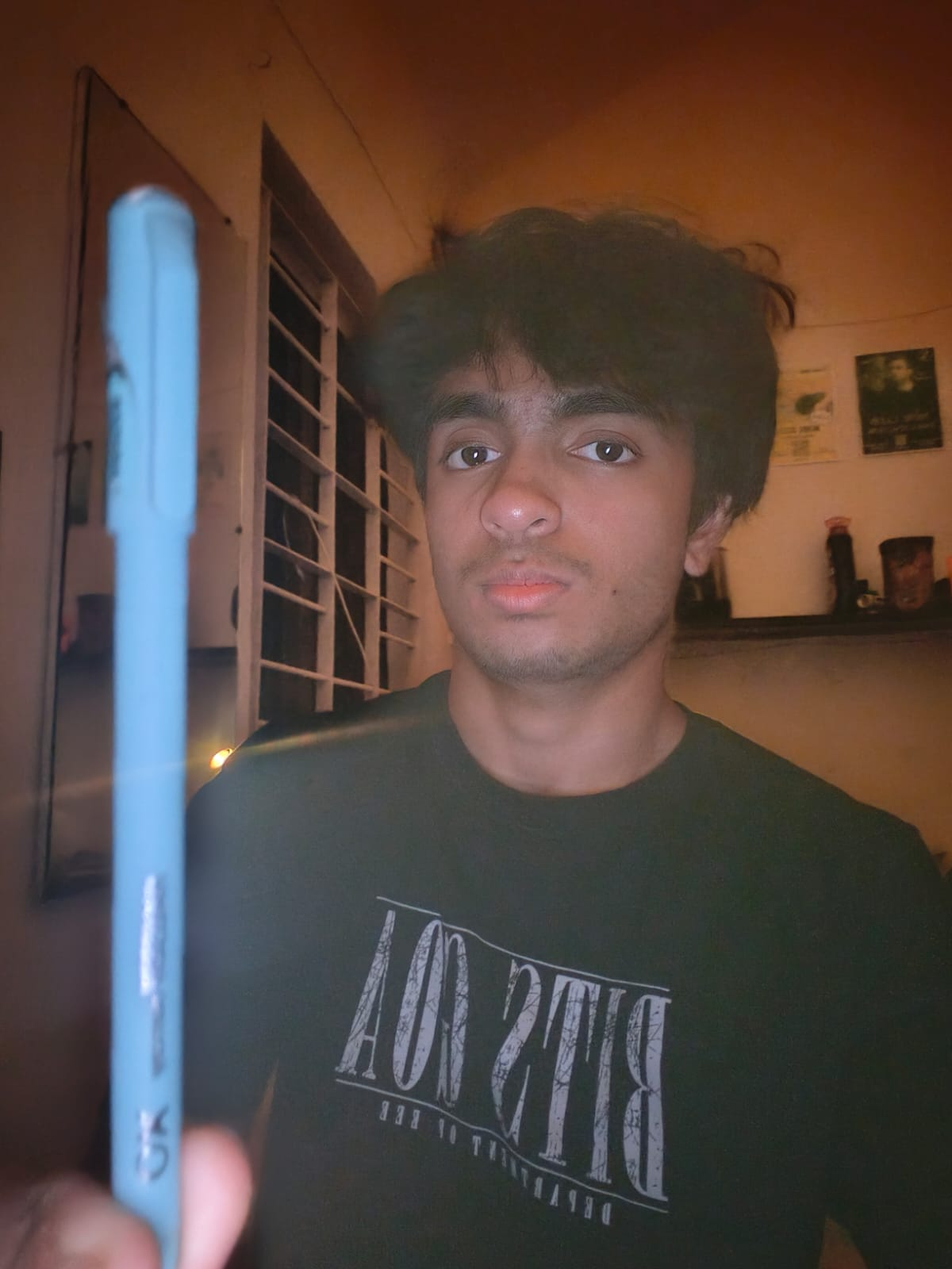pen: (88, 169, 237, 1242)
